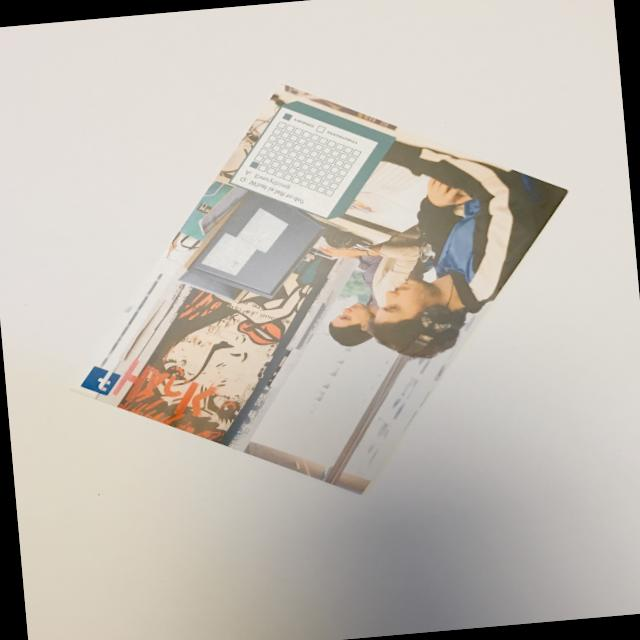Paper: (14, 50, 598, 540)
